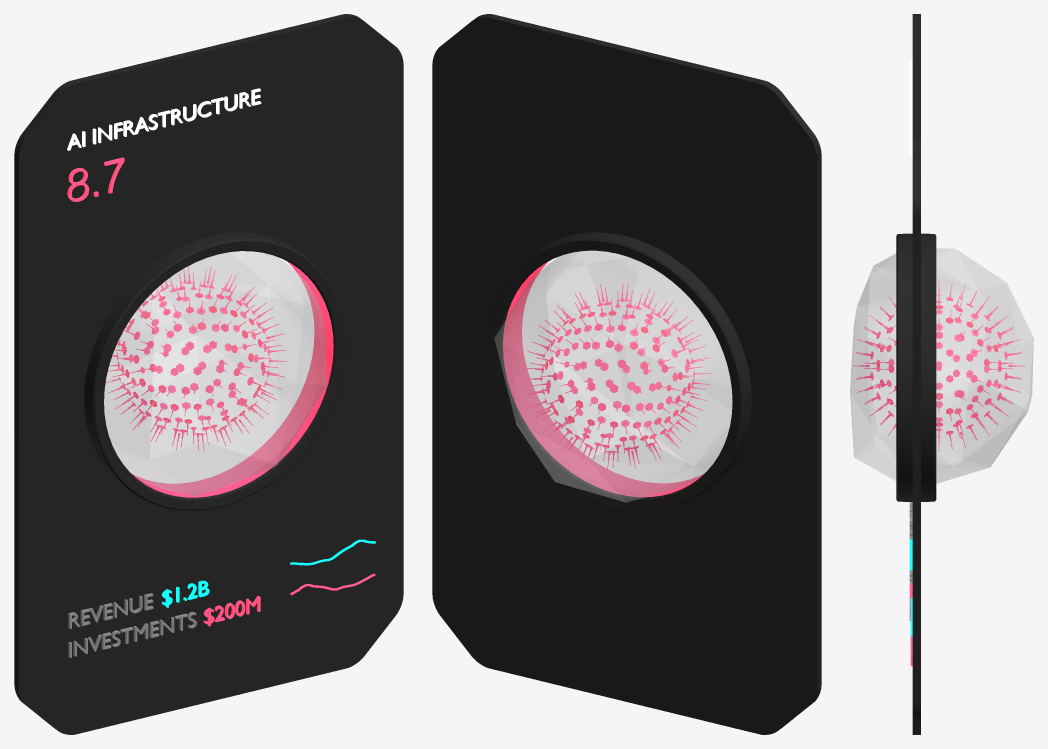
3 views of the same model, side by side, from view 1: azimuth 30°, elevation 25°; view 2: azimuth 150°, elevation 25°; view 3: azimuth 270°, elevation 25° (orthographic). The views are drawn at different scales.
Visible parts, largest first — view 1: Base.001, Glass.001, Corner.001, sphere.001, Text.006, Text.010, Text.008, Text.007, Text.011; view 2: Base.001, Glass.001, Corner.001, sphere.001; view 3: Glass.001, Corner.001, Base.001, sphere.001, Text.006.
Boxes of the visible parts, box(x1,y1,x2,y2) form: Base.001: box(14, 14, 403, 734); Glass.001: box(104, 251, 326, 495); Corner.001: box(84, 232, 345, 510); sphere.001: box(105, 266, 287, 451); Text.006: box(67, 88, 261, 150); Text.010: box(68, 612, 196, 657); Text.008: box(68, 593, 153, 628); Text.007: box(67, 157, 124, 201); Text.011: box(203, 596, 260, 626); Base.001: box(432, 14, 821, 734); Glass.001: box(494, 251, 732, 502); Corner.001: box(490, 232, 751, 510); sphere.001: box(524, 283, 711, 469); Glass.001: box(850, 248, 1033, 483); Corner.001: box(896, 233, 936, 501); Base.001: box(912, 14, 920, 734); sphere.001: box(853, 280, 1024, 451); Text.006: box(909, 59, 912, 156).
Size of the model in its own units: 1.47 by 2.38 by 0.666.
